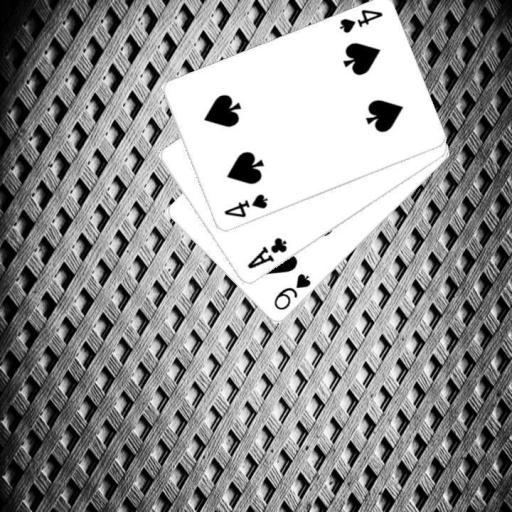card-corner: (270, 270, 313, 312), (244, 234, 289, 271), (336, 6, 384, 36), (220, 191, 269, 220)
